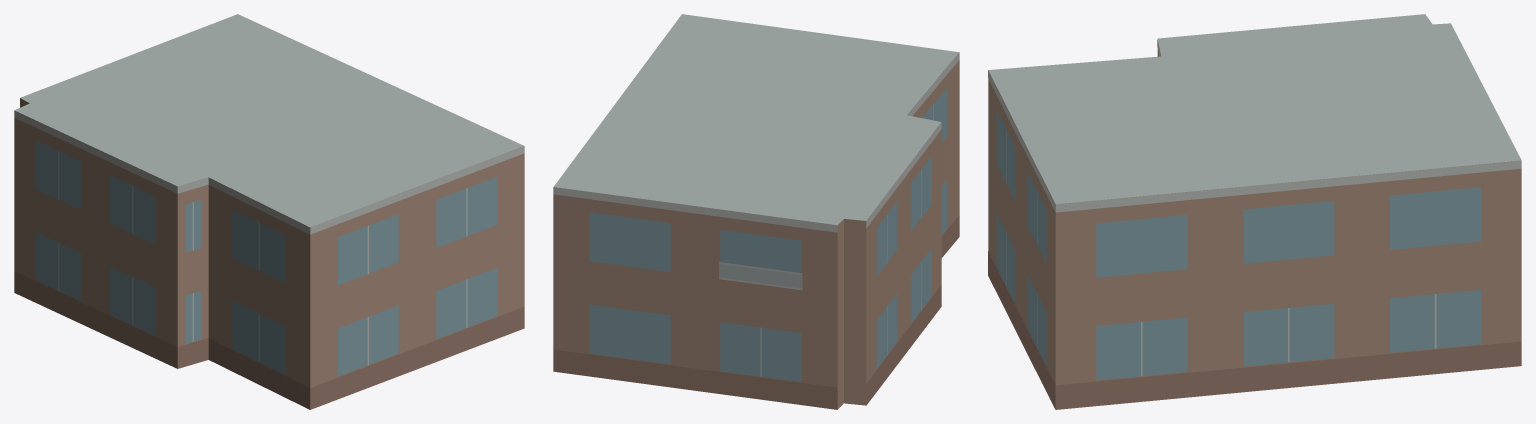
Rendered from survey-upis-32998275.glb.
3 renders of one model, left to right at view 1: azimuth 30°, elevation 25°; view 2: azimuth 150°, elevation 25°; view 3: azimuth 270°, elevation 25°, orthographic. The views are drawn at different scales.
Visible parts, largest first — view 1: survey-upis-32998275.tmp; view 2: survey-upis-32998275.tmp; view 3: survey-upis-32998275.tmp.
Boxes of the visible parts, x1,y1,x2,y2 form: survey-upis-32998275.tmp: (14,14,524,409); survey-upis-32998275.tmp: (553,14,959,409); survey-upis-32998275.tmp: (988,14,1521,409).
Size of the model in its own units: 12.12 by 6.1 by 14.36.
